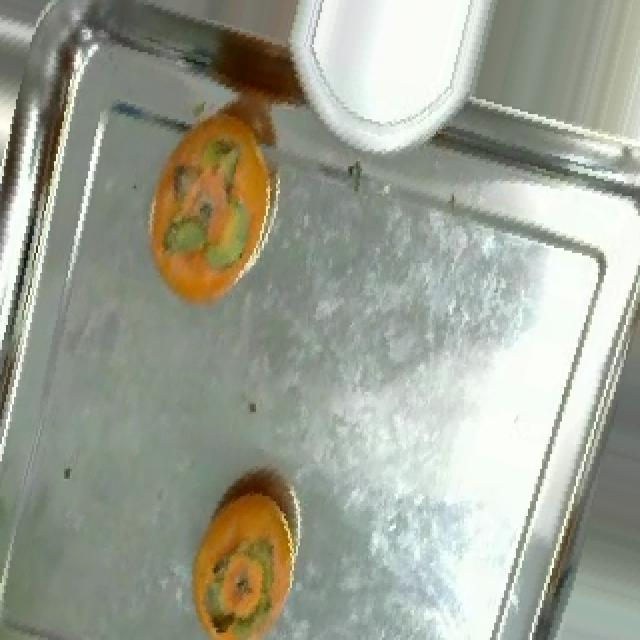Fruit: (126, 117, 292, 325), (176, 466, 310, 640)
